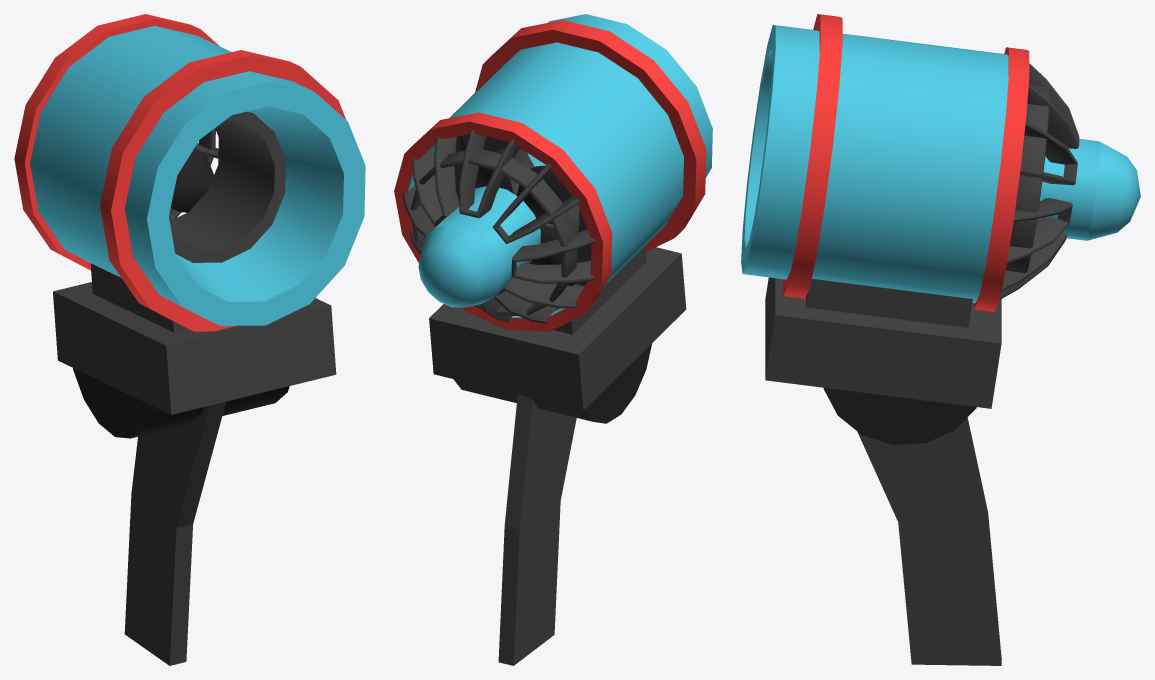
The model's file is mesh_snow_canon 1.fbx.
3 renders of one model, left to right at view 1: azimuth 30°, elevation 25°; view 2: azimuth 150°, elevation 25°; view 3: azimuth 270°, elevation 25°, orthographic. The views are drawn at different scales.
Visible parts, largest first — view 1: canon, pied, helice; view 2: canon, pied, helice; view 3: canon, pied.
Part boxes in pixels (left/top/right/bottom): canon: left=14, top=14, right=365, bottom=438; pied: left=124, top=401, right=225, bottom=665; helice: left=170, top=147, right=213, bottom=212; canon: left=394, top=14, right=712, bottom=423; pied: left=498, top=395, right=576, bottom=665; helice: left=460, top=138, right=576, bottom=286; canon: left=741, top=14, right=1140, bottom=444; pied: left=857, top=417, right=1001, bottom=665.
Size of the model in its own units: 254 by 625 by 356.
